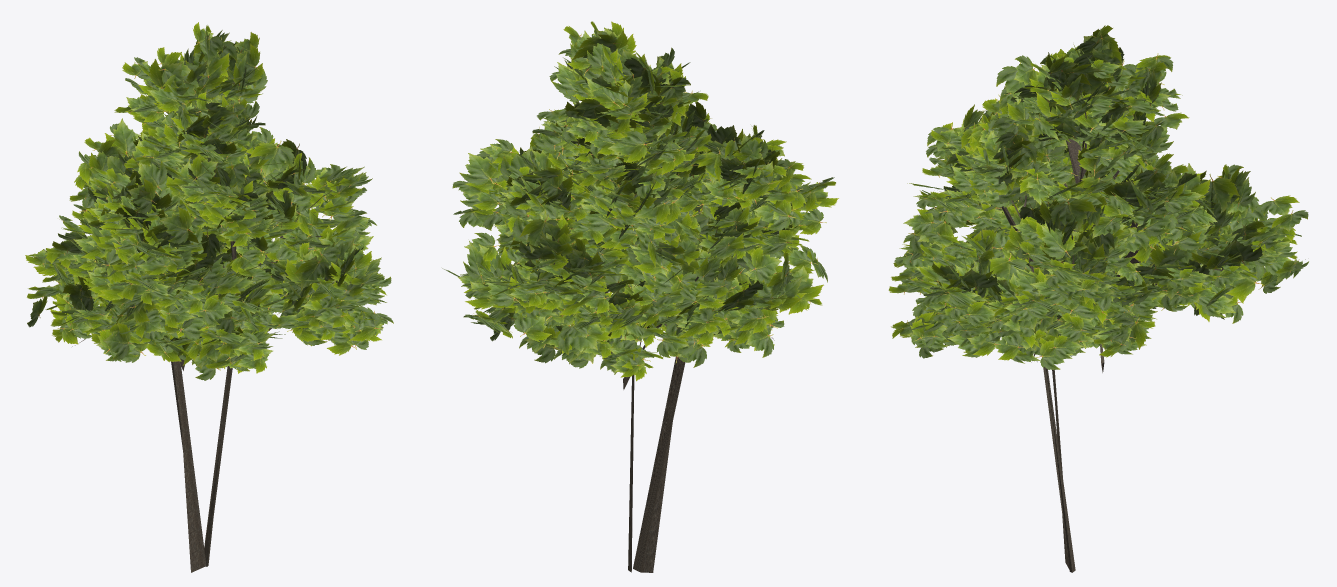
File: tree_maple_lod1.glb
3 renders of one model, left to right at view 1: azimuth 30°, elevation 25°; view 2: azimuth 150°, elevation 25°; view 3: azimuth 270°, elevation 25°, orthographic. The views are drawn at different scales.
Visible parts, largest first — view 1: Maple_tree1_LOD1; view 2: Maple_tree1_LOD1; view 3: Maple_tree1_LOD1.
Boxes of the visible parts, <box> form: Maple_tree1_LOD1: <box>25,22,393,572</box>; Maple_tree1_LOD1: <box>442,21,838,572</box>; Maple_tree1_LOD1: <box>888,25,1308,572</box>.
Size of the model in its own units: 2.6 by 3.79 by 2.77.
2 materials, 2 textured.
